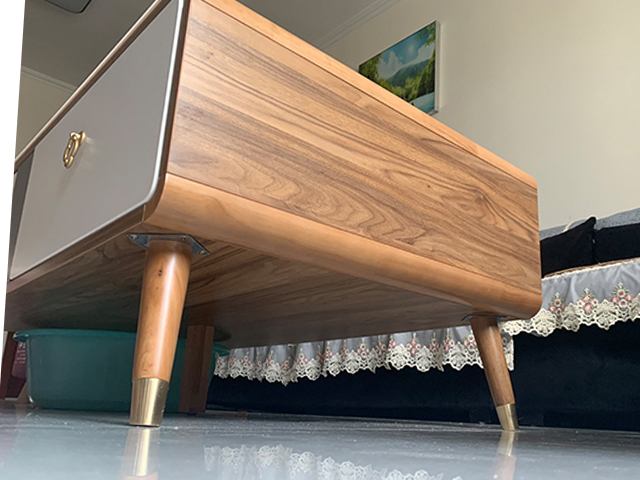sofa: (214, 207, 640, 430)
table: (6, 1, 544, 436)
